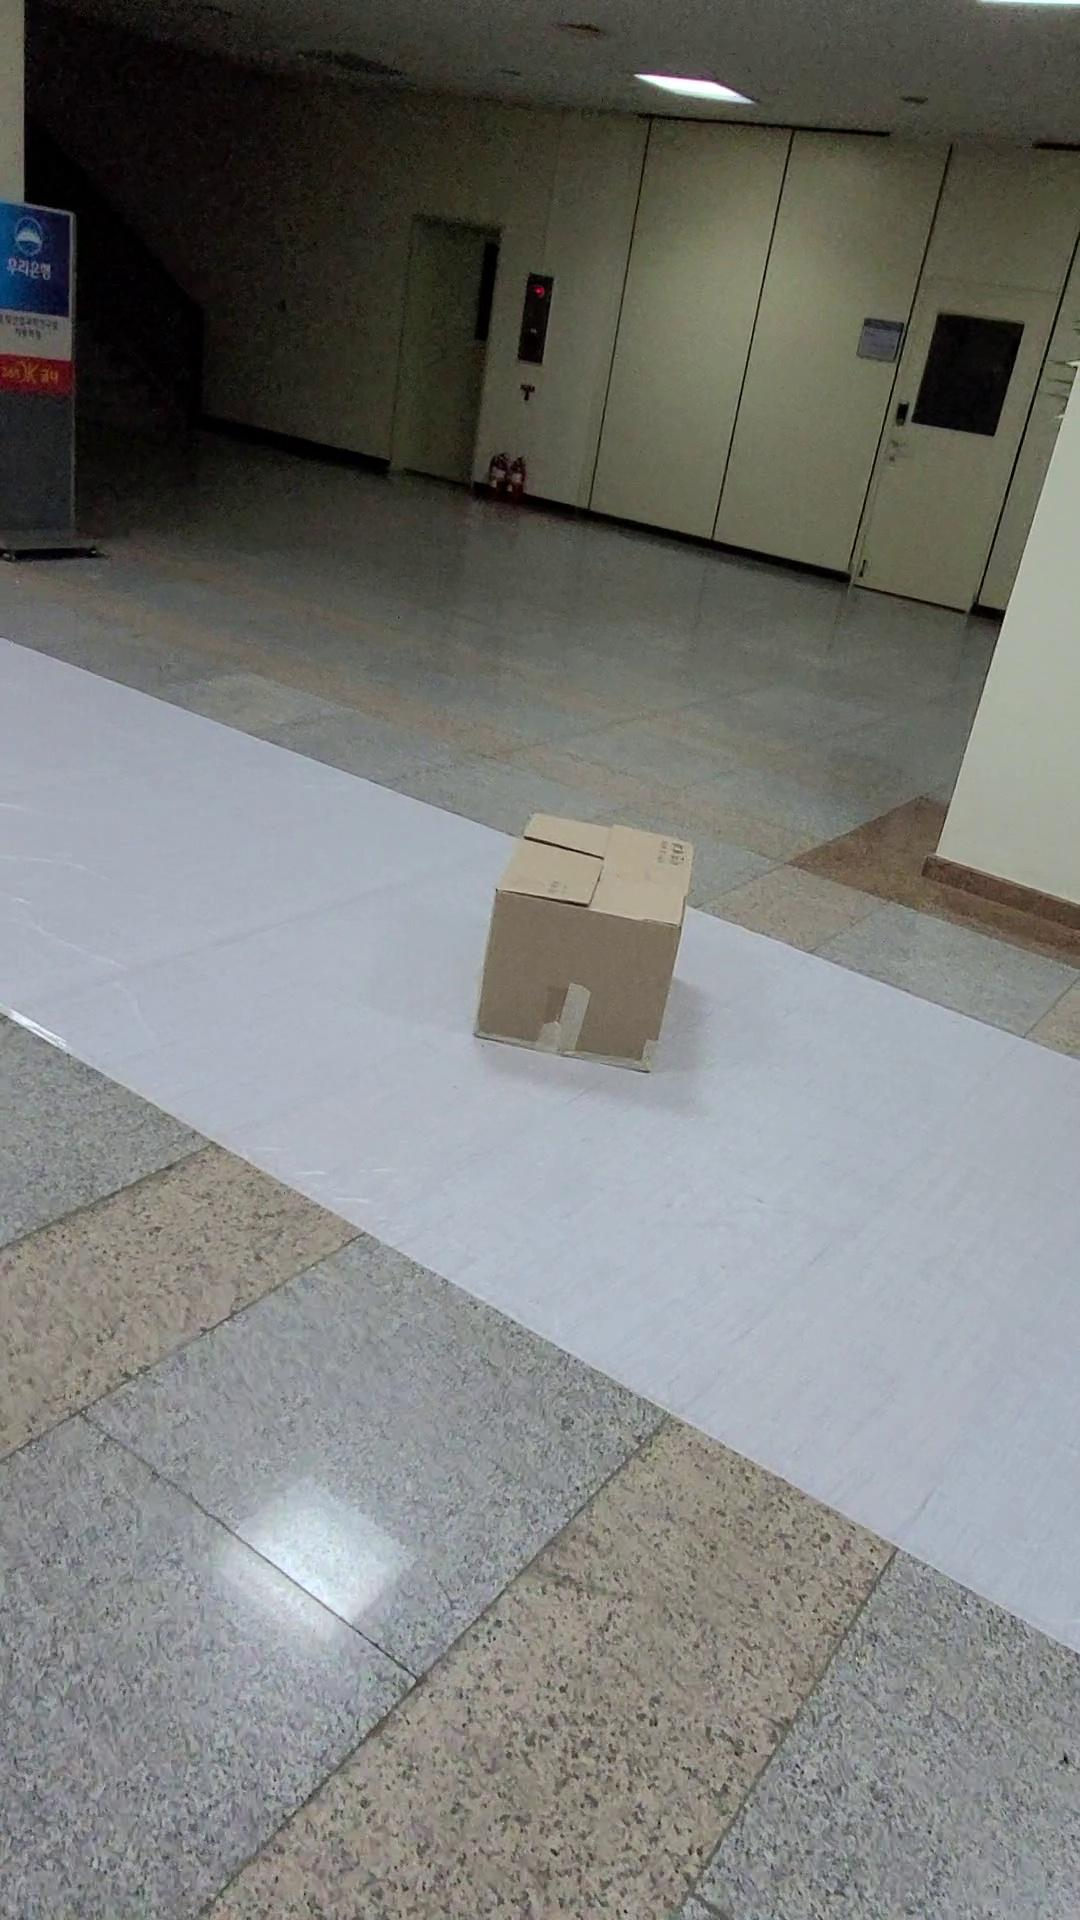Box: (463, 785, 717, 1077)
